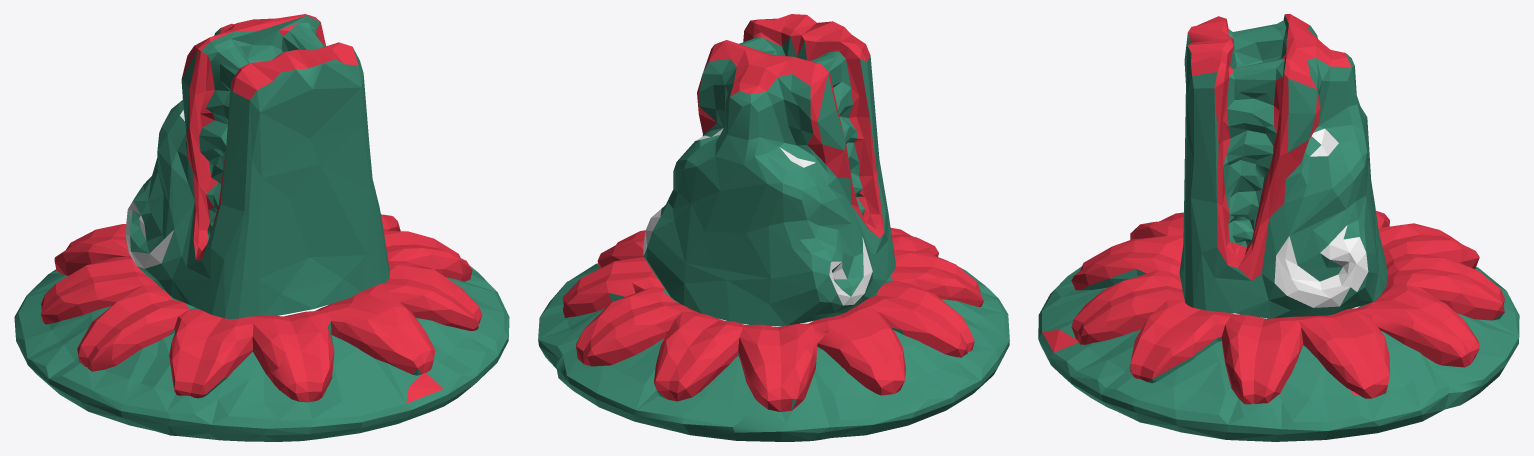
Rendered from Quetzalcoatl.fbx.
3 renders of one model, left to right at view 1: azimuth 30°, elevation 25°; view 2: azimuth 150°, elevation 25°; view 3: azimuth 270°, elevation 25°, orthographic. The views are drawn at different scales.
Parts seen in each view (by area): view 1: QUETZA; view 2: QUETZA; view 3: QUETZA.
Boxes of the visible parts, <box> form: QUETZA: <box>14,14,509,441</box>; QUETZA: <box>538,14,1009,441</box>; QUETZA: <box>1038,14,1519,441</box>.
Size of the model in its own units: 38.47 by 26.9 by 37.98.
